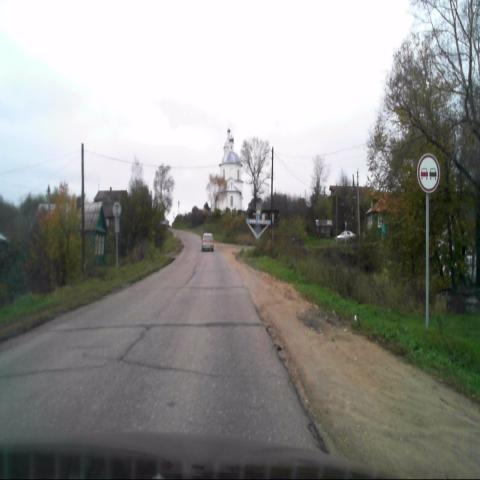3_20: (417, 153, 441, 195)
